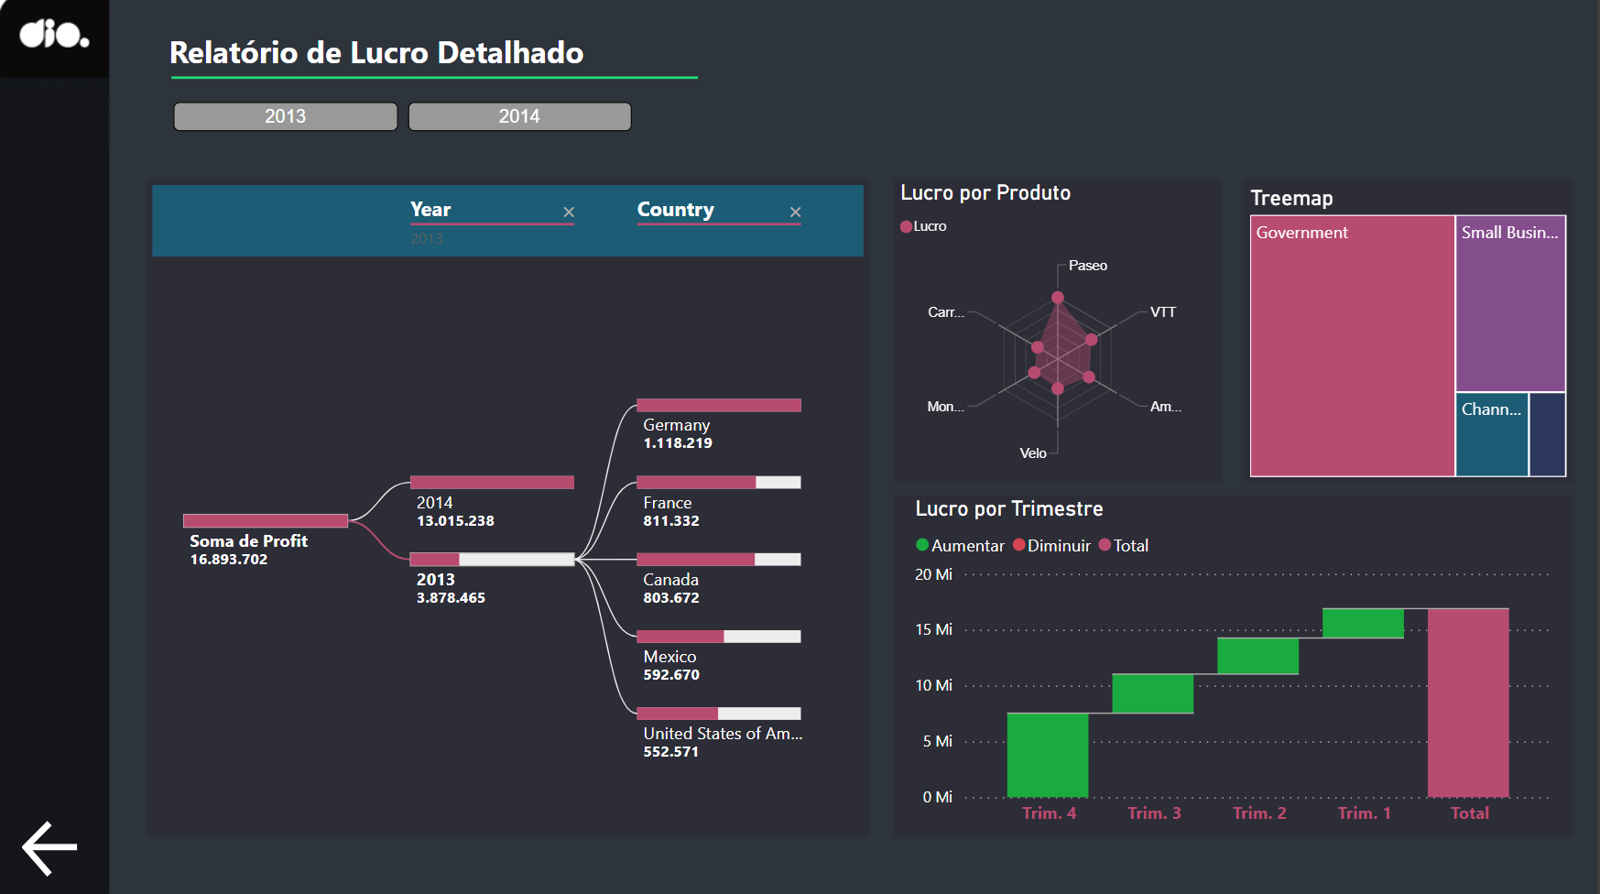

Layout of this report page (visuals, bound fields, positions):
{"tool":"powerbi","page":{"name":"Detail","canvas":[1280,720],"ordinal":1},"visuals":[{"type":"image","box":[0,0,1279.9,720],"z":0},{"type":"textbox","box":[135.7,24.4,419.3,42.8],"z":1000},{"type":"shape","box":[143,56.2,418.1,20.8],"z":2000},{"type":"ChicletSlicer1448559807354","fields":{"Category":["Financial.Year"]},"box":[135.3,77,382.3,52.1],"z":3000},{"type":"shape","box":[122.9,147.7,574.7,522.6],"z":4000},{"type":"decompositionTreeVisual","fields":{"Analyze":["Sum(Financial.Profit)"],"ExplainBy":["Financial.Year","Financial.Country"]},"box":[122.9,147.7,574.7,522.6],"z":5000},{"type":"shape","box":[716.2,147.7,260.7,240.8],"z":6000},{"type":"RadarChart1446119667547","fields":{"Category":["Financial.Product"],"Y":["Sum(Financial.Profit)"]},"box":[716.2,147.7,260.7,240.8],"z":7000},{"type":"shape","box":[994.3,147.7,260.7,240.8],"z":8000},{"type":"treemap","title":"Treemap","fields":{"Values":["Sum(Financial.Profit)"],"Group":["Financial.Segment"]},"box":[994.3,151.4,260.7,237.1],"z":9000},{"type":"shape","box":[716.2,398.5,538.7,271.8],"z":10000},{"type":"waterfallChart","fields":{"Category":["TCalendário.Trimestre"],"Y":["Sum(Financial.Profit)"]},"box":[728.6,398.5,517.6,271.8],"z":11000},{"type":"actionButton","box":[19.9,651.7,60.8,54.6],"z":12000}]}

Visuals, with their boxes on the page's 1280x720 design canvas (x1, y1, x2, y2). These are canvas units, not pixel positions in the 1600x894 screenshot, which may show the page scaled, cropped or inside an application window:
image: left=0, top=0, right=1280, bottom=720
textbox: left=136, top=24, right=555, bottom=67
shape: left=143, top=56, right=561, bottom=77
ChicletSlicer1448559807354 - Financial.Year: left=135, top=77, right=518, bottom=129
shape: left=123, top=148, right=698, bottom=670
decompositionTreeVisual - Sum(Financial.Profit) x Financial.Year: left=123, top=148, right=698, bottom=670
shape: left=716, top=148, right=977, bottom=388
RadarChart1446119667547 - Financial.Product x Sum(Financial.Profit): left=716, top=148, right=977, bottom=388
shape: left=994, top=148, right=1255, bottom=388
"Treemap" treemap: left=994, top=151, right=1255, bottom=388
shape: left=716, top=398, right=1255, bottom=670
waterfallChart - TCalendário.Trimestre x Sum(Financial.Profit): left=729, top=398, right=1246, bottom=670
actionButton: left=20, top=652, right=81, bottom=706
